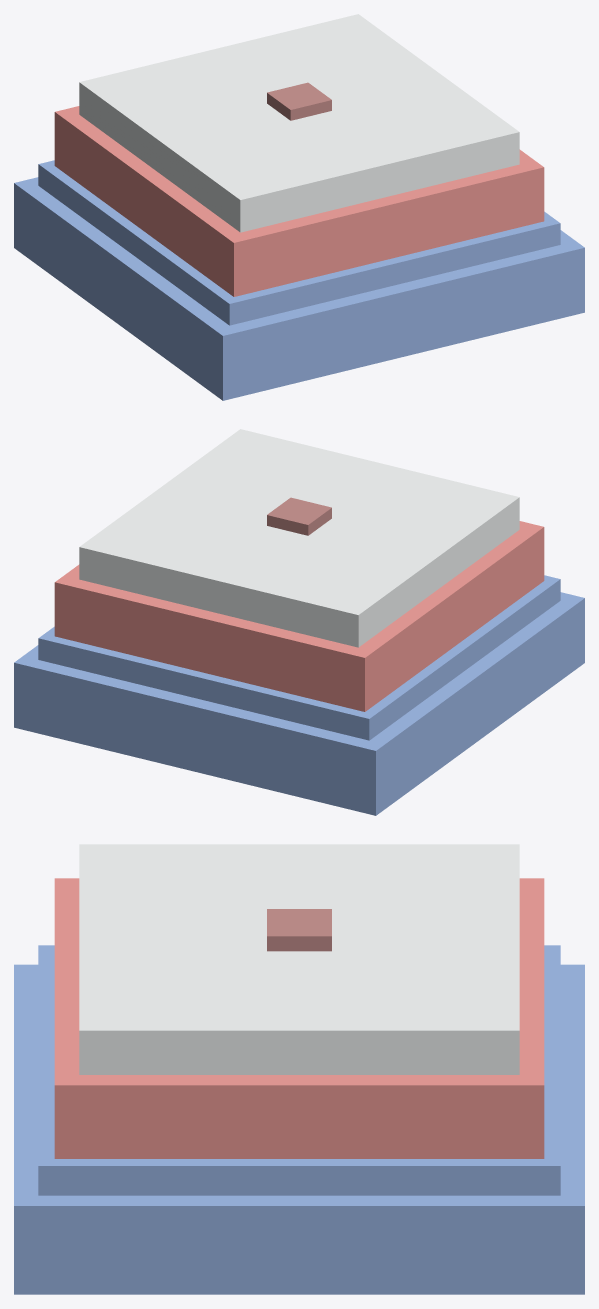
Rendered from floorCushions.glb.
The picture shows the model from 3 angles, top to bottom: view 1: azimuth 30°, elevation 25°; view 2: azimuth 150°, elevation 25°; view 3: azimuth 270°, elevation 25°; orthographic projection. The views are drawn at different scales.
Parts seen in each view (by area): view 1: floorCushions; view 2: floorCushions; view 3: floorCushions.
Boxes of the visible parts, x1,y1,x2,y2 form: floorCushions: (14, 14, 584, 400); floorCushions: (14, 429, 584, 815); floorCushions: (14, 844, 584, 1294).
Size of the model in its own units: 0.35 by 0.17 by 0.35.
